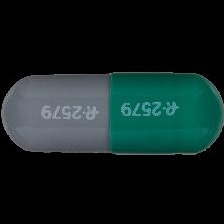0615-7753: (0, 0, 224, 224)
